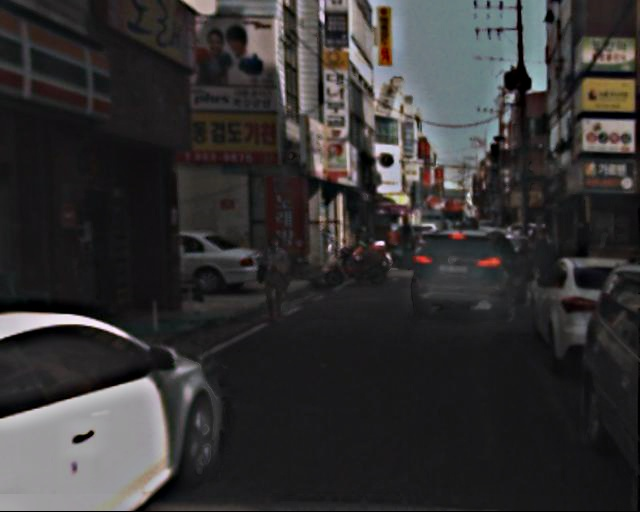person: (261, 236, 298, 327), (533, 225, 569, 314)
